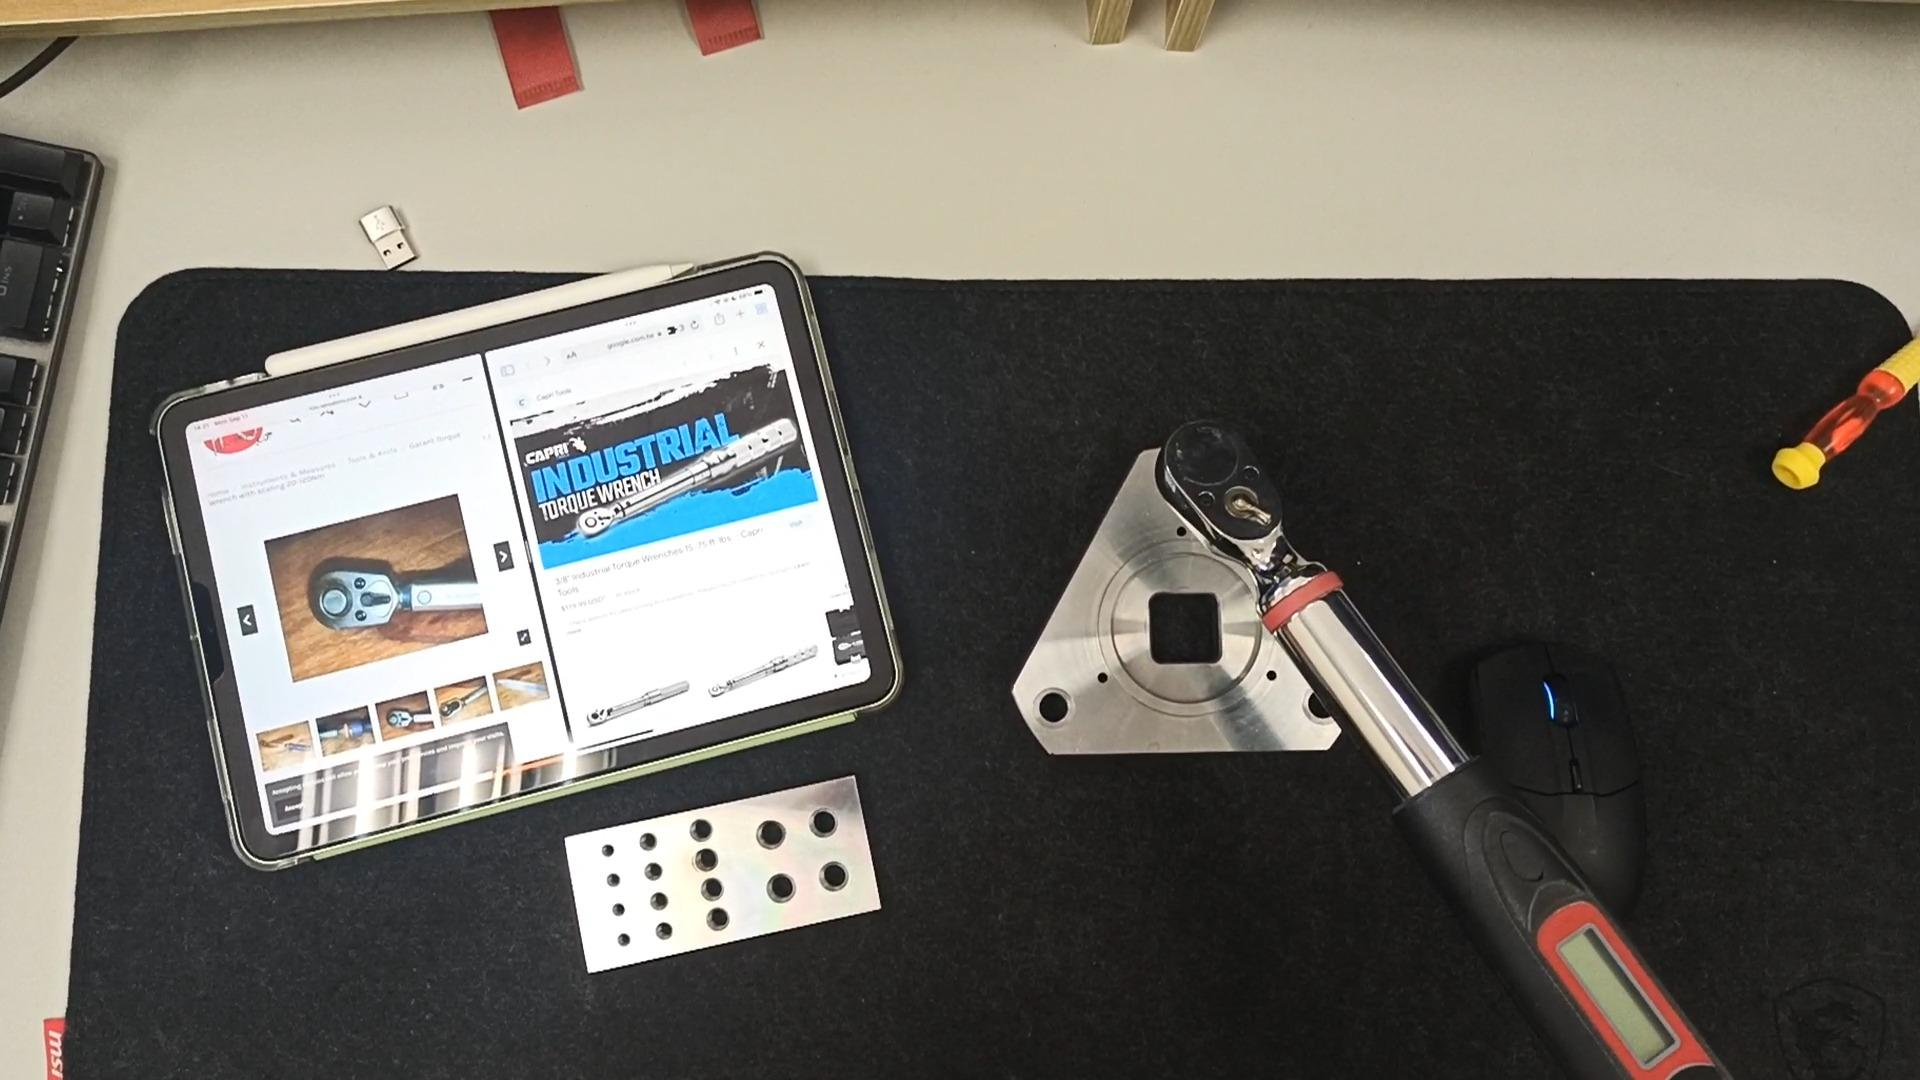Tool: (1151, 423, 1311, 589), (309, 570, 400, 634), (570, 505, 624, 545)
hole: (1034, 687, 1076, 732), (804, 800, 847, 845), (754, 814, 793, 857), (1302, 684, 1338, 728), (818, 857, 857, 894), (765, 872, 806, 907), (687, 814, 720, 845), (698, 877, 729, 910), (691, 845, 723, 873), (703, 907, 732, 936), (634, 832, 661, 857), (647, 890, 675, 913), (640, 861, 669, 882), (654, 922, 680, 944), (611, 930, 633, 951), (603, 870, 621, 893), (600, 841, 616, 857)
